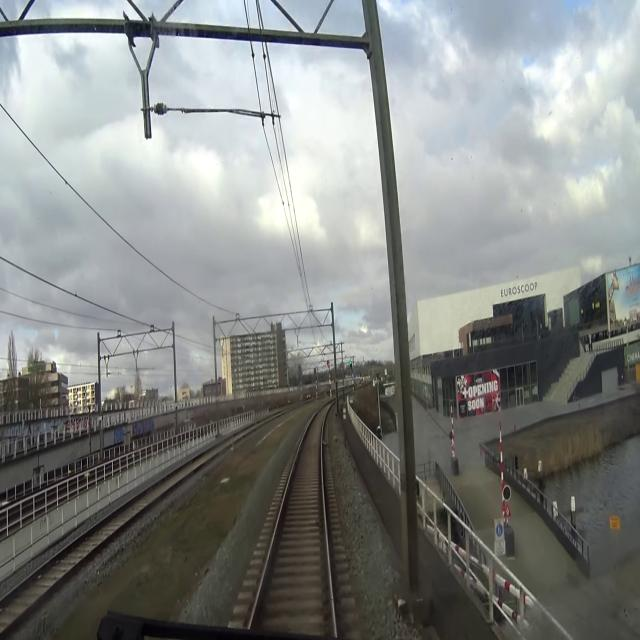rail-track: (0, 463, 193, 629), (254, 409, 332, 631)
